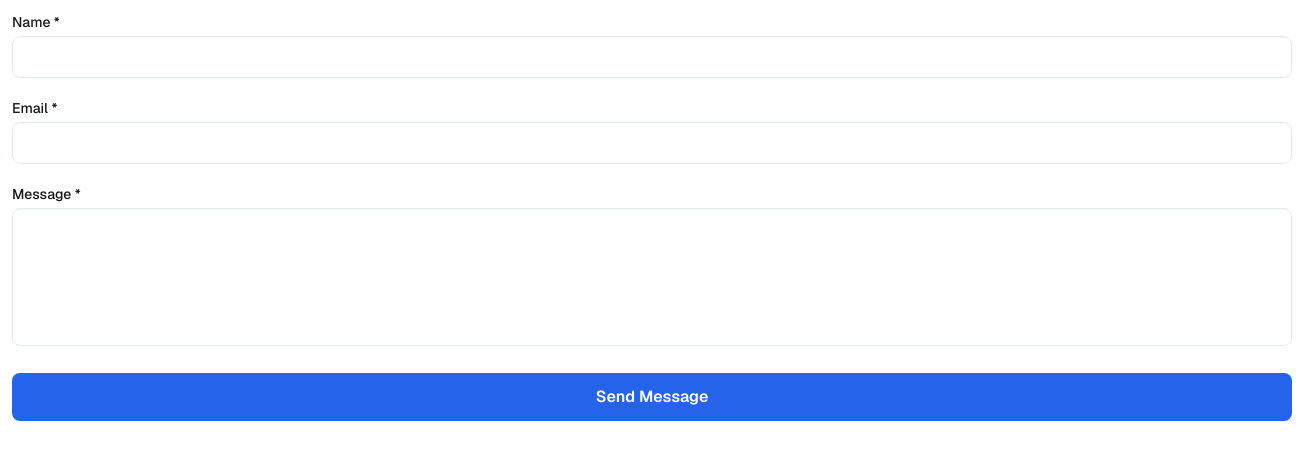
Test case: ContactForm validation › shows error for invalid email format
The width and height of the screenshot is (1304, 459).
Step 1. Type "John Doe" into the field labelled "Name *" → x=652, y=57, box [12, 36, 1292, 78]
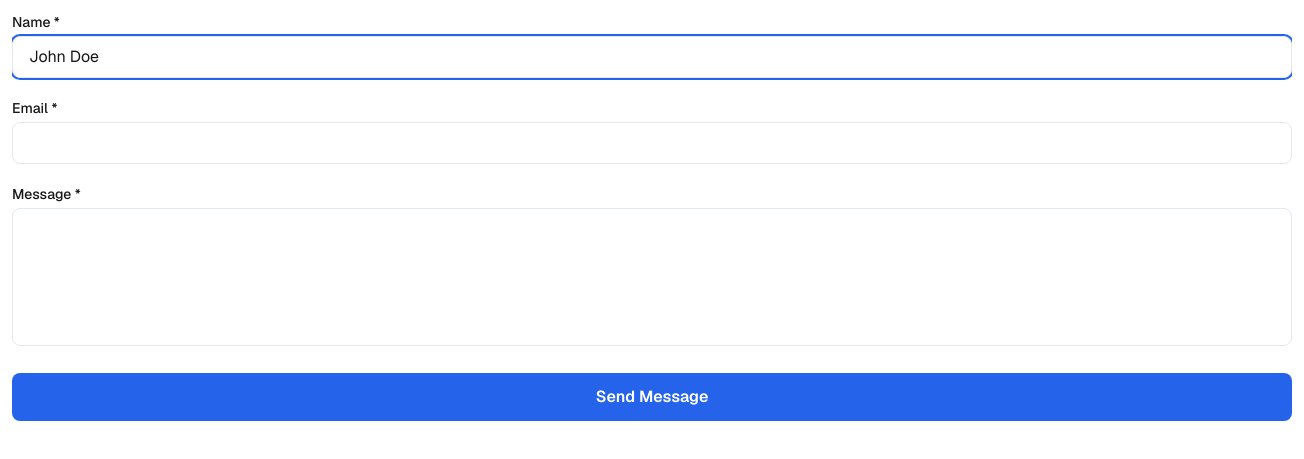
Step 2. Type "not-an-email" into the field labelled "Email *" → x=652, y=143, box [12, 122, 1292, 164]
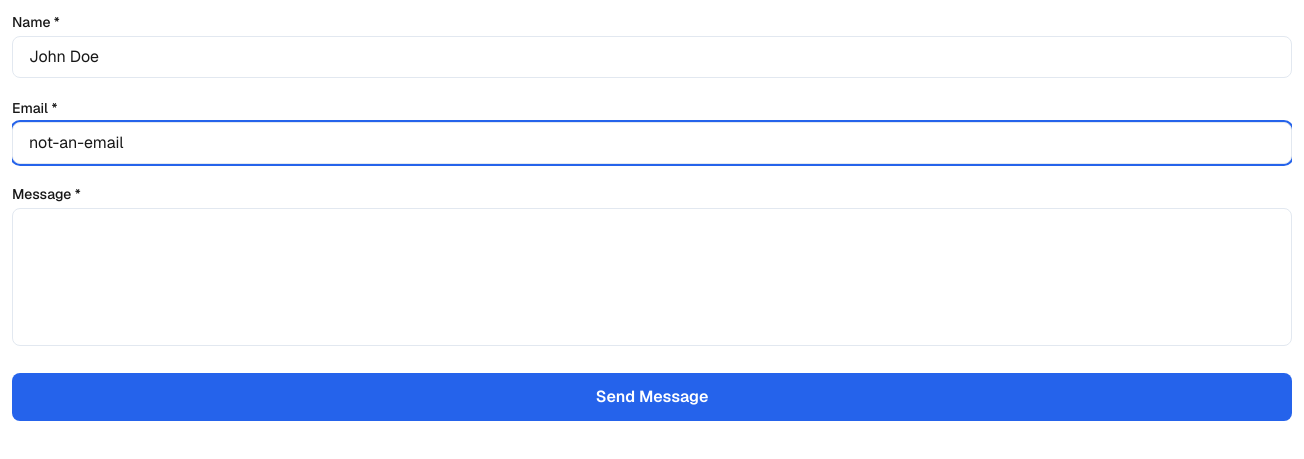
Step 3. Type "This is a valid message for testing." into the text box labelled "Message *" → x=652, y=277, box [12, 208, 1292, 346]
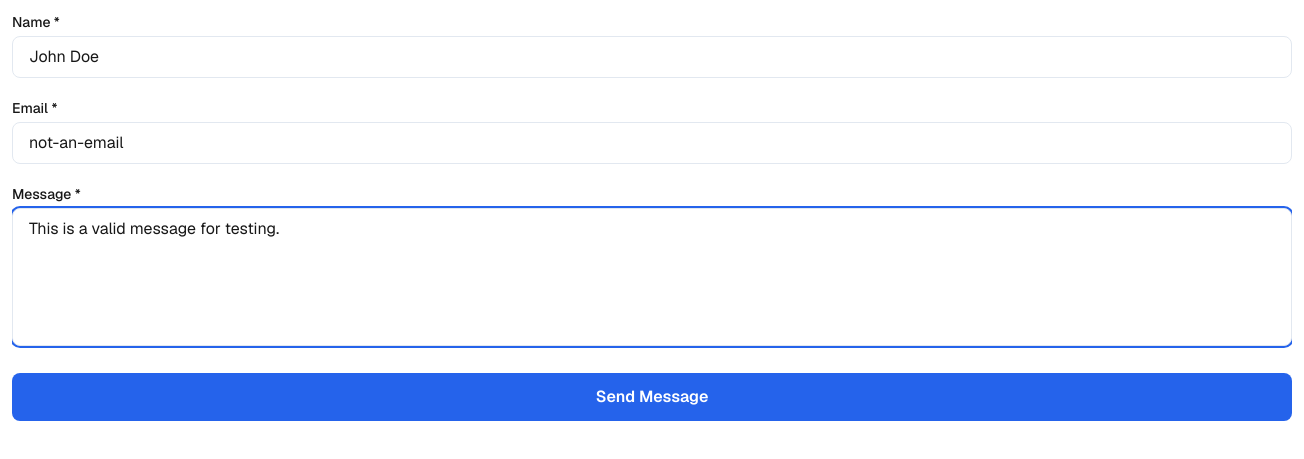
Step 4. Click the button "Send Message" → x=652, y=397, box [12, 373, 1292, 421]
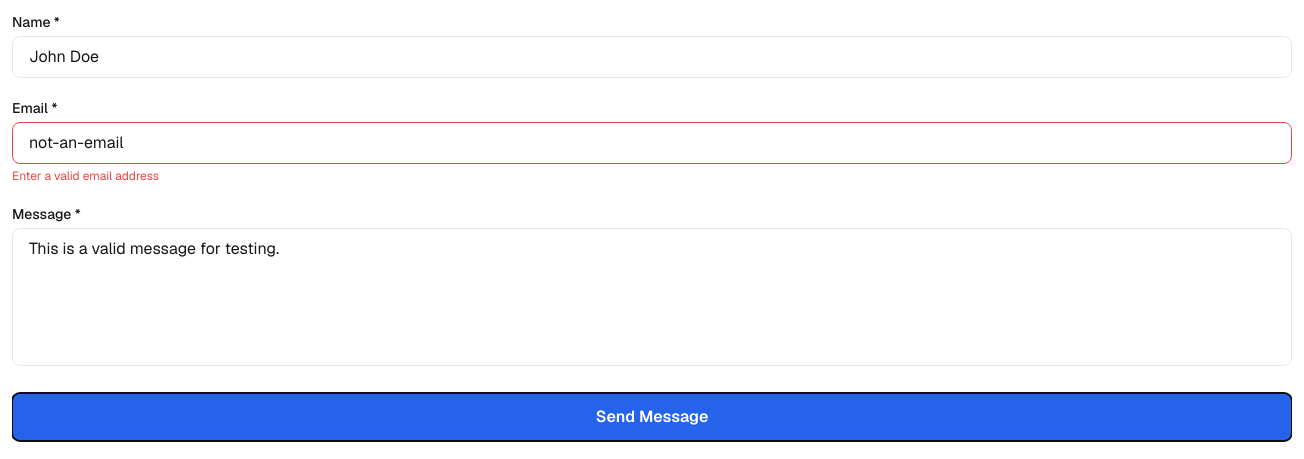
Now the text "Enter a valid email address" is shown, box [12, 168, 159, 184]
